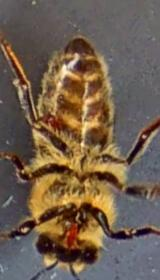varroa_mite: (38, 108, 66, 138)
